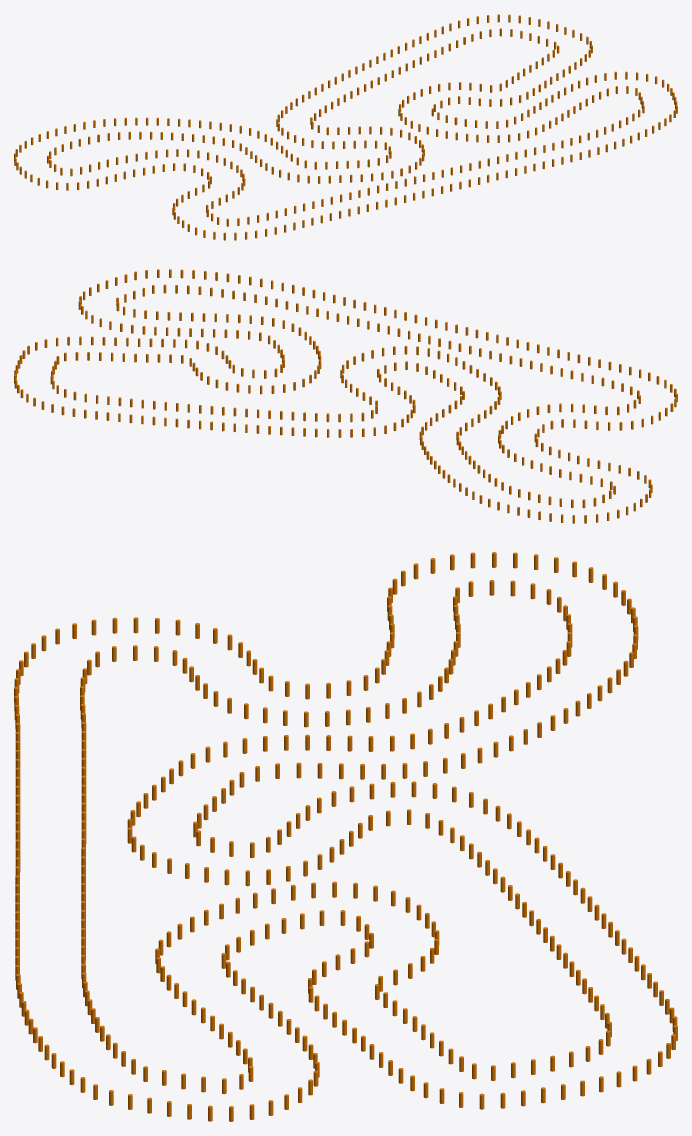
The model's file is CYLINDERS.fbx.
The picture shows the model from 3 angles, top to bottom: view 1: azimuth 30°, elevation 25°; view 2: azimuth 150°, elevation 25°; view 3: azimuth 270°, elevation 25°; orthographic projection. The views are drawn at different scales.
Parts seen in each view (by area): view 1: BézierCurve; view 2: BézierCurve; view 3: BézierCurve.
Part boxes in pixels (x1=…): BézierCurve: x1=14, y1=14, x2=677, y2=240; BézierCurve: x1=14, y1=269, x2=677, y2=523; BézierCurve: x1=14, y1=552, x2=677, y2=1121.
Bounding box in the file's own units: 3880 × 7687 × 89.92.
